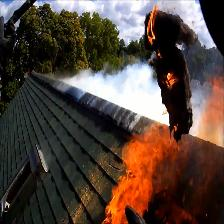fire: (106, 120, 180, 224)
smoke: (64, 64, 170, 122)
